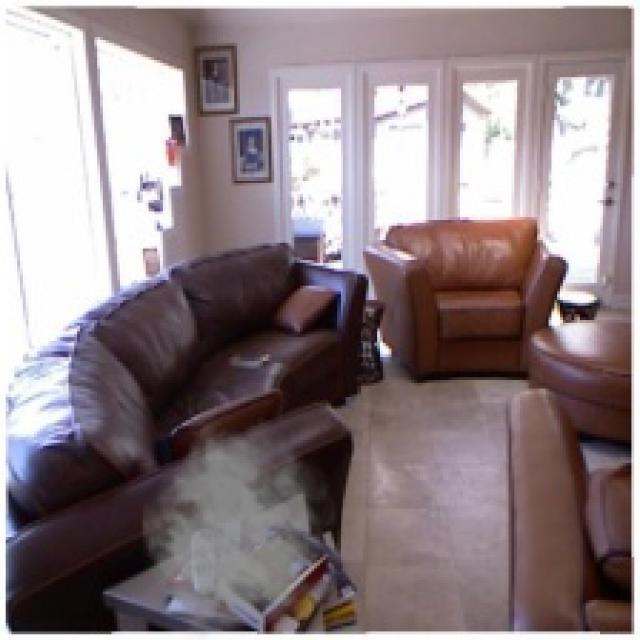Smoke: (140, 412, 343, 637)
